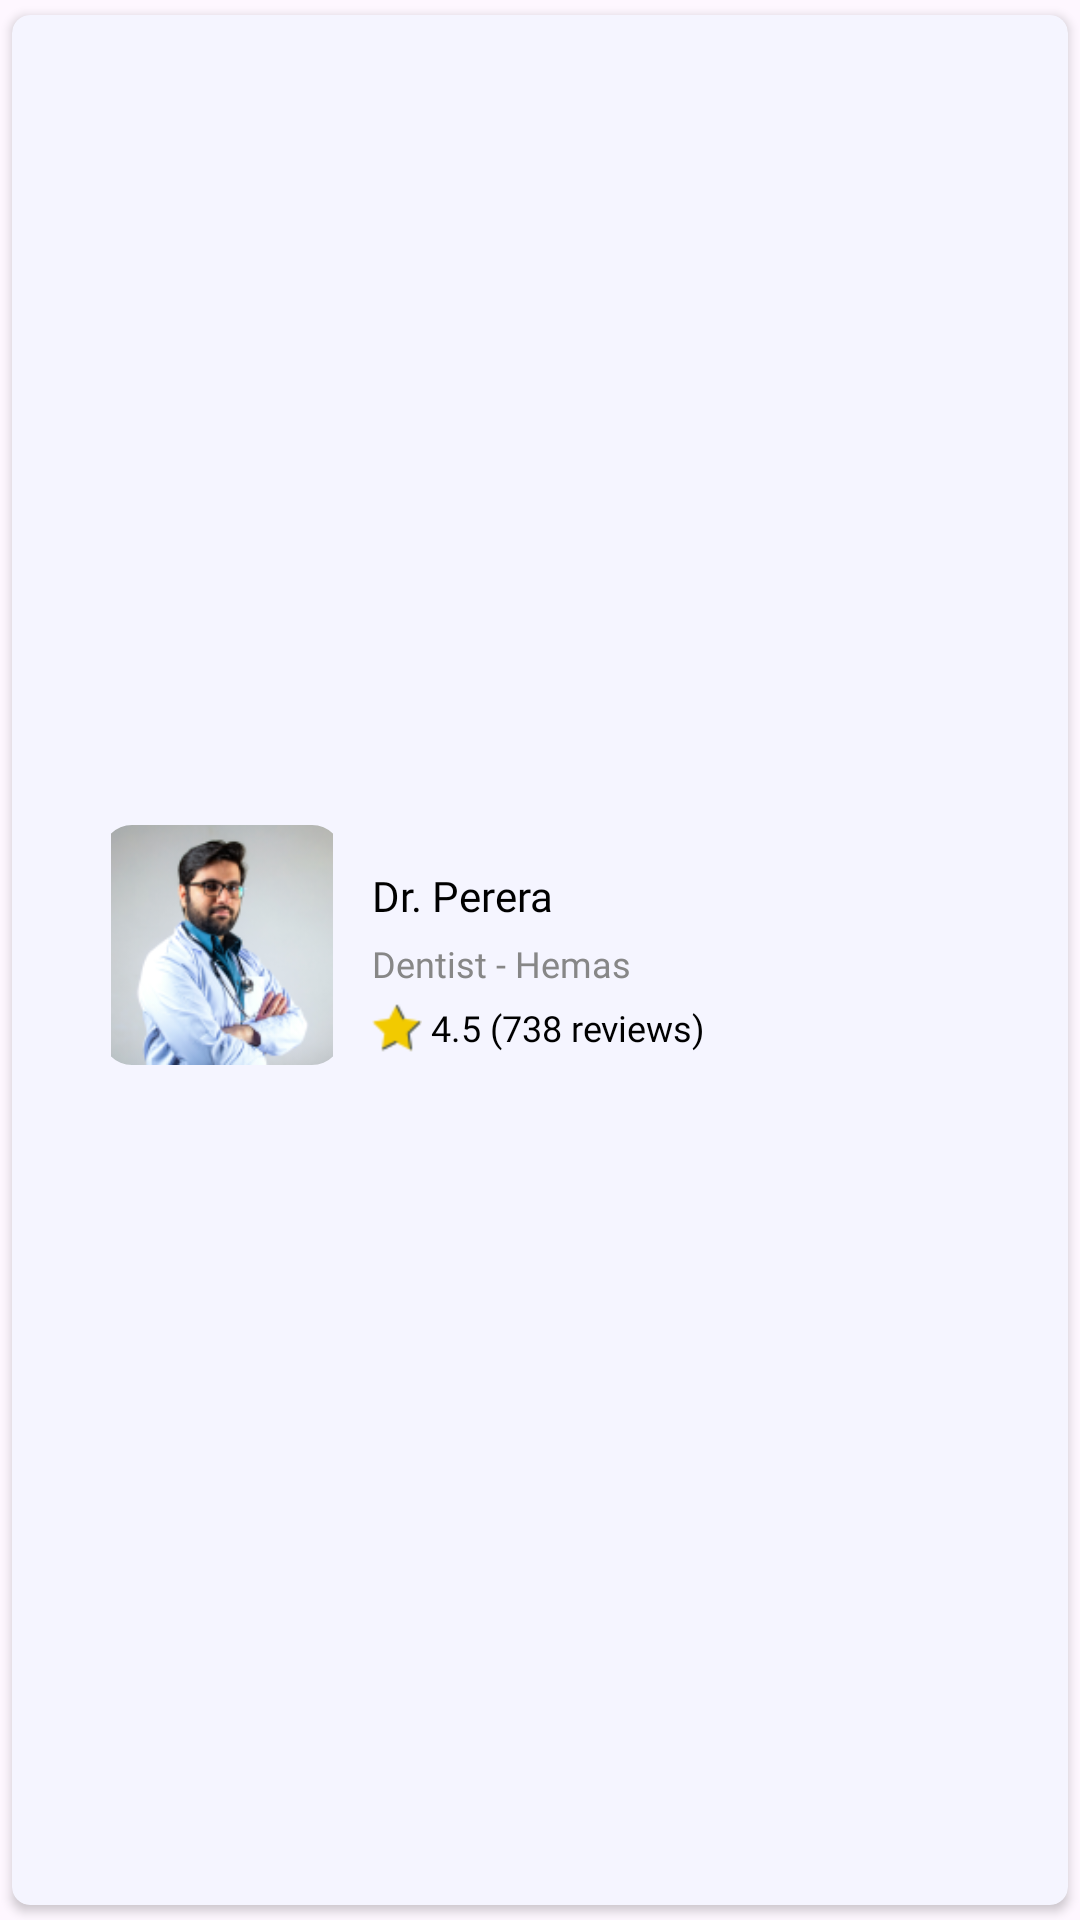

Icons on this 1080×1920 Android screen, each with the point to tap as (x=x, y=y):
doc topdoctor: (x=222, y=945)
rating: (x=397, y=1027)
